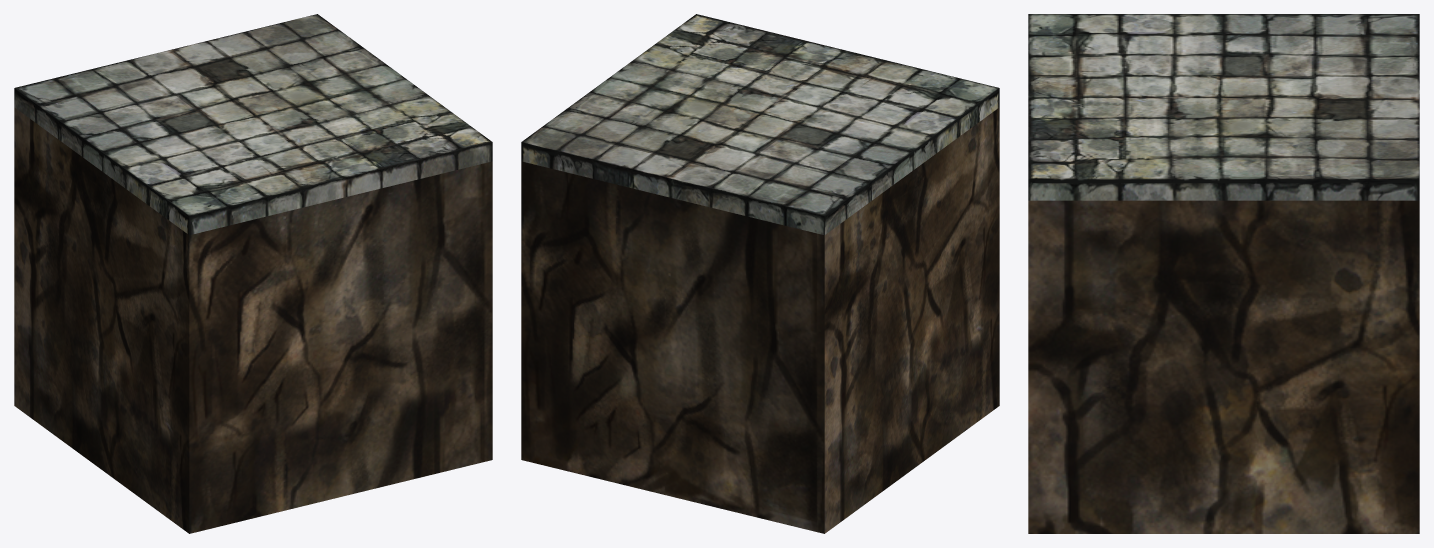
File: STR_FloorTileLargeDeep.FBX
3 views of the same model, side by side, from view 1: azimuth 30°, elevation 25°; view 2: azimuth 150°, elevation 25°; view 3: azimuth 270°, elevation 25° (orthographic). The views are drawn at different scales.
Parts seen in each view (by area): view 1: STR_FloorTileLargeDeep; view 2: STR_FloorTileLargeDeep; view 3: STR_FloorTileLargeDeep.
Part boxes in pixels (x1,y1,x2,y2): STR_FloorTileLargeDeep: [14, 14, 492, 533]; STR_FloorTileLargeDeep: [521, 14, 999, 533]; STR_FloorTileLargeDeep: [1028, 14, 1419, 533].
Size of the model in its own units: 800 by 800 by 800.
